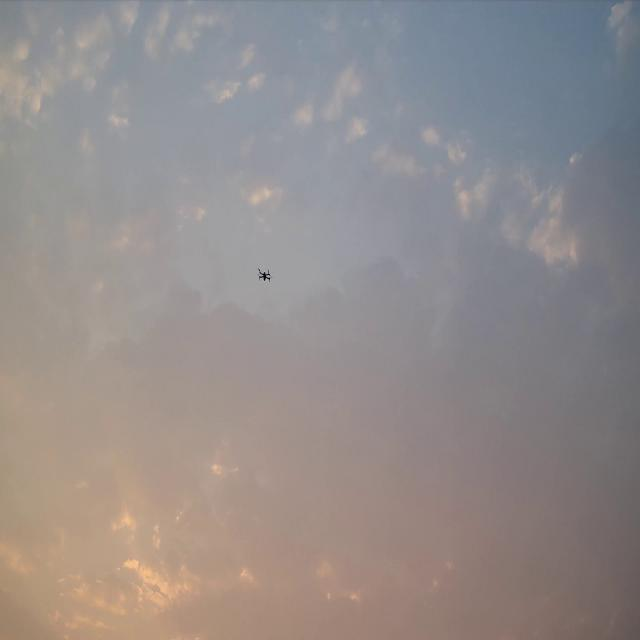drone: (257, 267, 273, 282)
